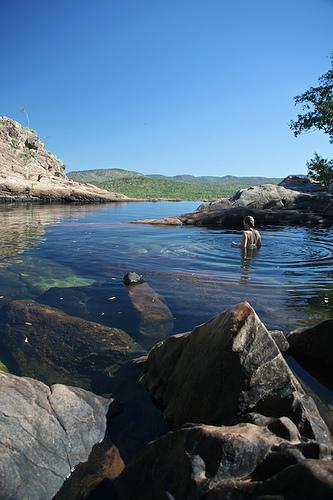human: (233, 212, 262, 254)
